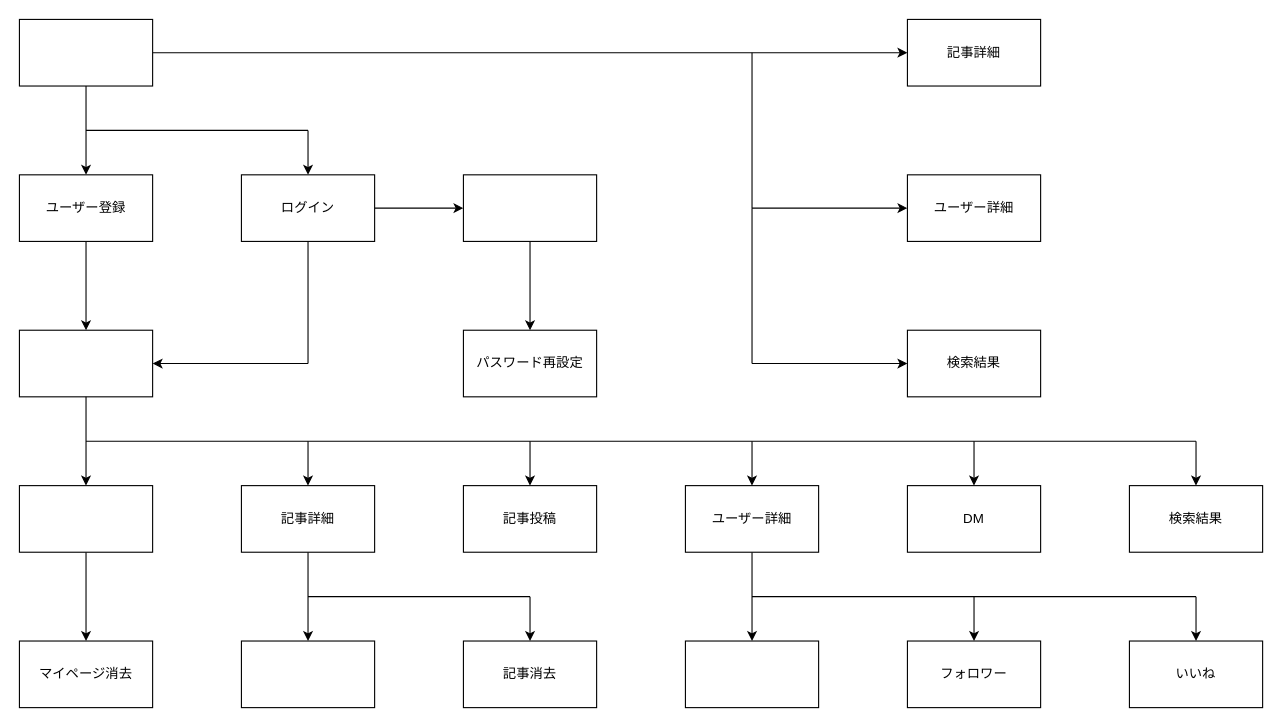
The diagram is 1282 pixels wide and 727 high, and some of its shapes have lost their labels. Each missing label, with the box of its shape:
パスワードお忘れ: (462, 174, 597, 241)
フォロー: (684, 640, 819, 708)
マイページ編集: (18, 485, 153, 552)
記事一覧 (ログイン): (18, 329, 153, 397)
記事一覧 (非ログイン): (18, 18, 153, 86)
記事編集: (240, 640, 375, 708)
